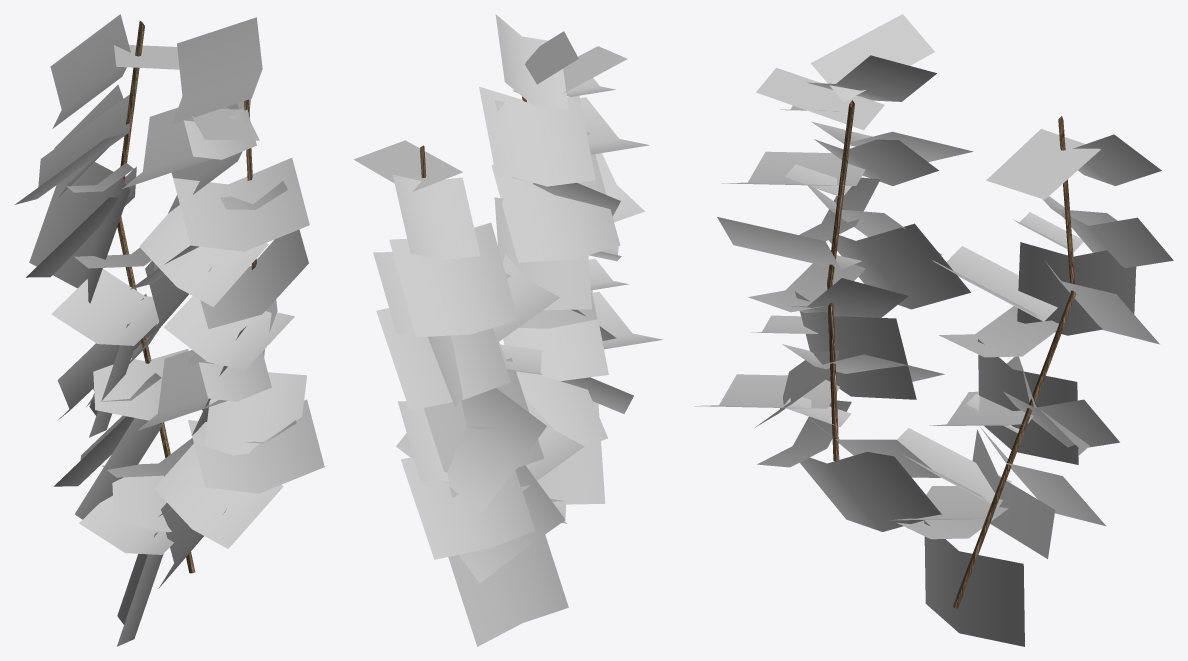
Rendered from Short Branch.FBX.
The picture shows the model from 3 angles, left to right: view 1: azimuth 30°, elevation 25°; view 2: azimuth 150°, elevation 25°; view 3: azimuth 270°, elevation 25°; orthographic projection. The views are drawn at different scales.
Visible parts, largest first — view 1: Object200, Object069; view 2: Object069, Object200; view 3: Object200, Object069.
Boxes of the visible parts, x1,y1,x2,y2 form: Object200: (122, 17, 324, 588); Object069: (14, 14, 195, 646); Object069: (353, 140, 584, 646); Object200: (479, 14, 663, 504); Object200: (694, 14, 973, 531); Object069: (890, 116, 1173, 646).
Bounding box in the file's own units: 4.22 × 12.66 × 8.92.
